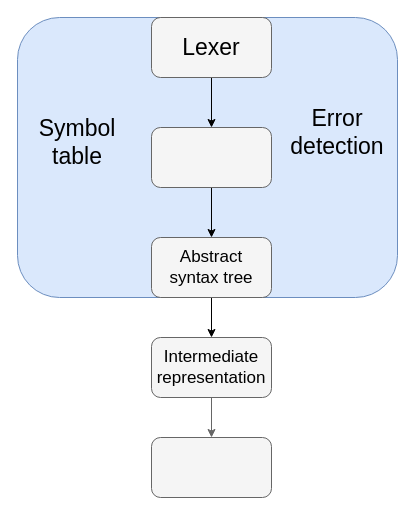
The diagram is 415 pixels wide and 515 high, and some of its shapes have lost their labels. Each missing label, with the centre of its shape:
Code generation: point 211,467
Parser: point 211,157
